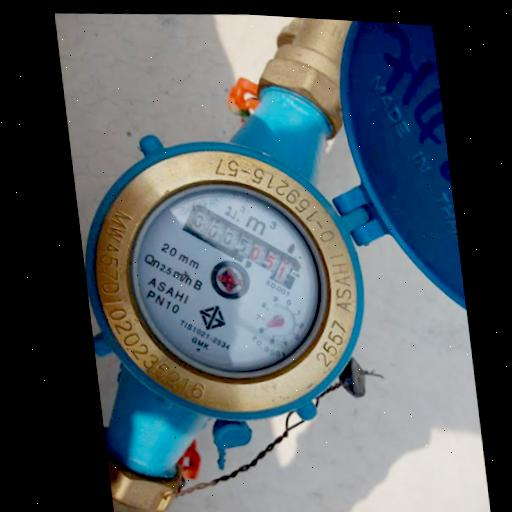0: (201, 217, 226, 244), (244, 241, 268, 267), (187, 208, 210, 235), (218, 224, 241, 251)
1: (269, 255, 297, 287)
5: (232, 234, 255, 260), (259, 249, 281, 273)
border_water_meter_number: (176, 195, 308, 297)
